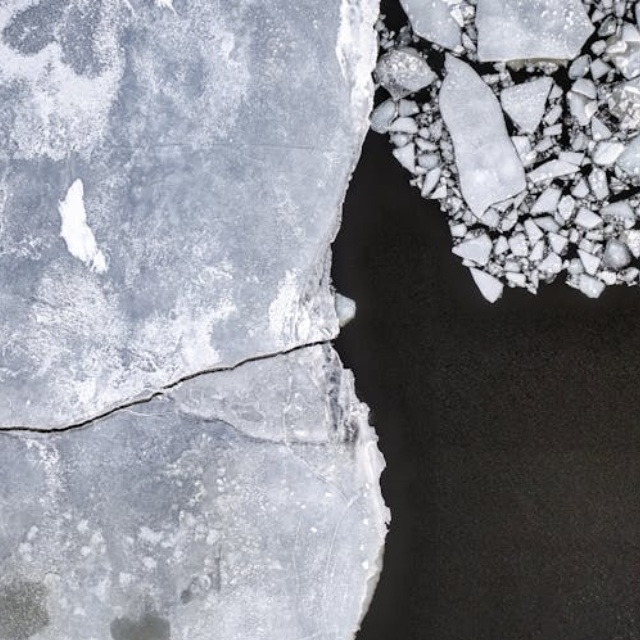细微裂纹: (0, 339, 352, 463), (0, 367, 272, 471)
网状裂隙: (309, 155, 640, 640), (283, 229, 640, 629), (272, 225, 517, 640), (405, 203, 620, 640), (0, 99, 269, 447), (455, 175, 640, 640), (0, 394, 348, 640)
